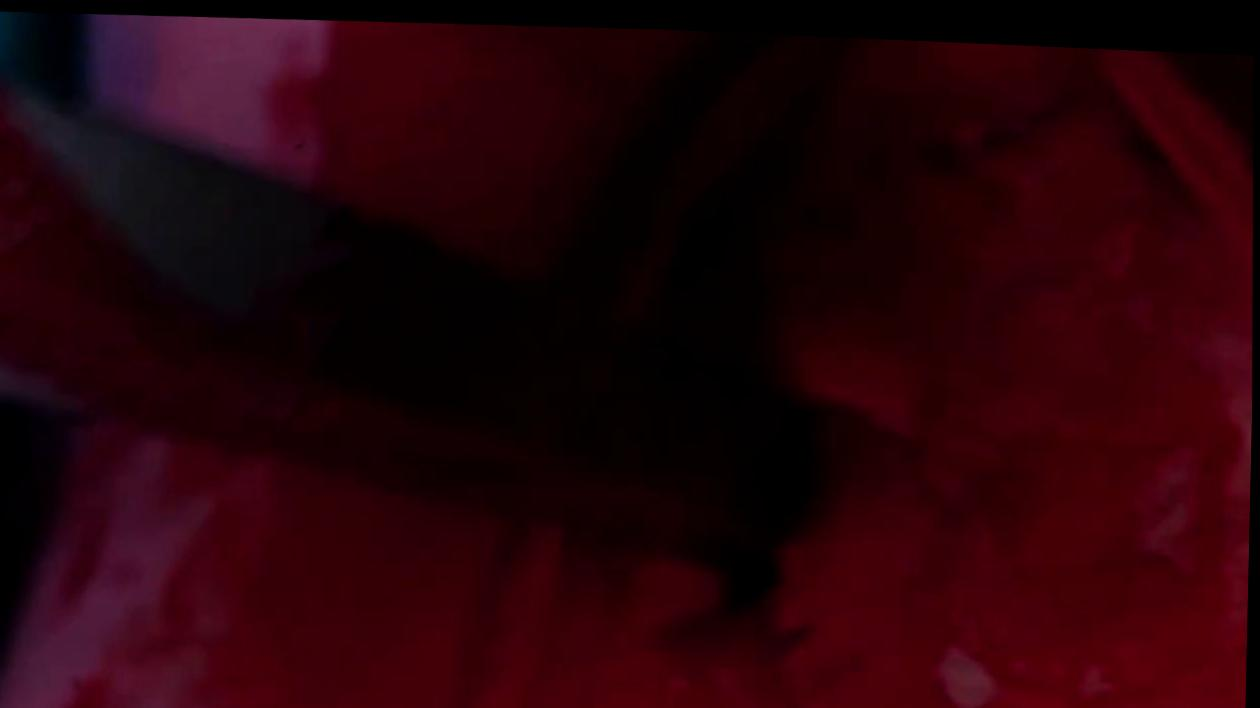Fire: (0, 17, 1254, 708)
